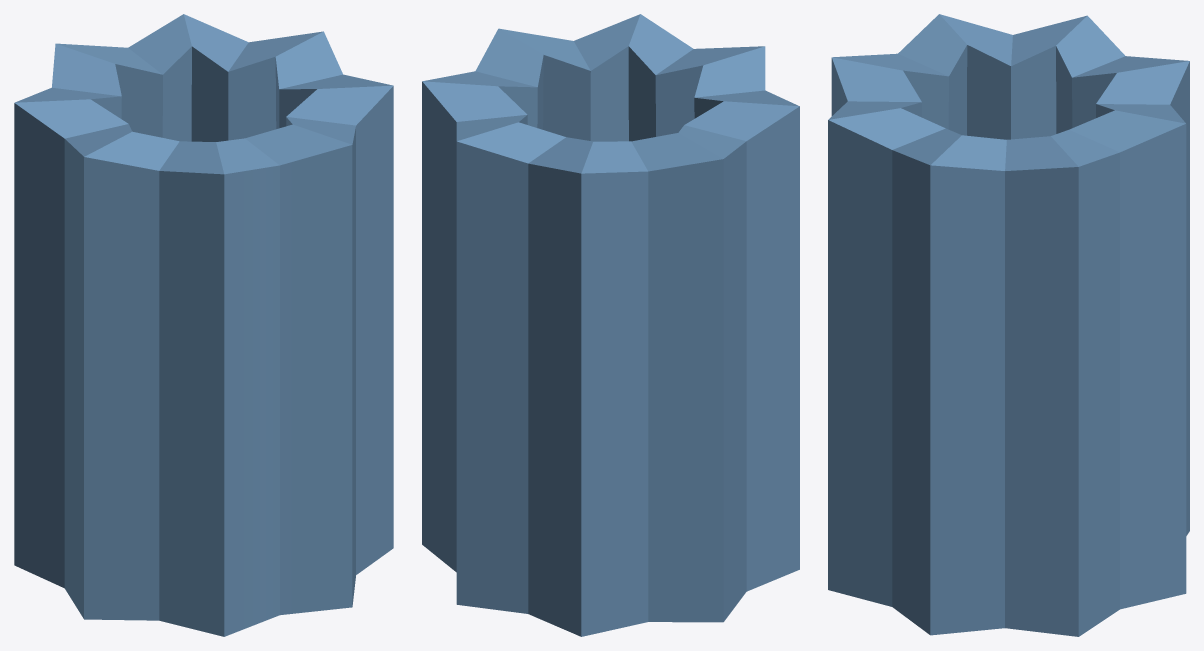
Rendered from dust_bin.fbx.
3 renders of one model, left to right at view 1: azimuth 30°, elevation 25°; view 2: azimuth 150°, elevation 25°; view 3: azimuth 270°, elevation 25°, orthographic.
Visible parts, largest first — view 1: dust_bin.003; view 2: dust_bin.003; view 3: dust_bin.003.
Part boxes in pixels (box(x1,y1,x2,y2)): dust_bin.003: box(14, 14, 393, 636); dust_bin.003: box(422, 14, 799, 636); dust_bin.003: box(828, 14, 1189, 636).
Bounding box in the file's own units: 17.04 × 24.43 × 17.04.
